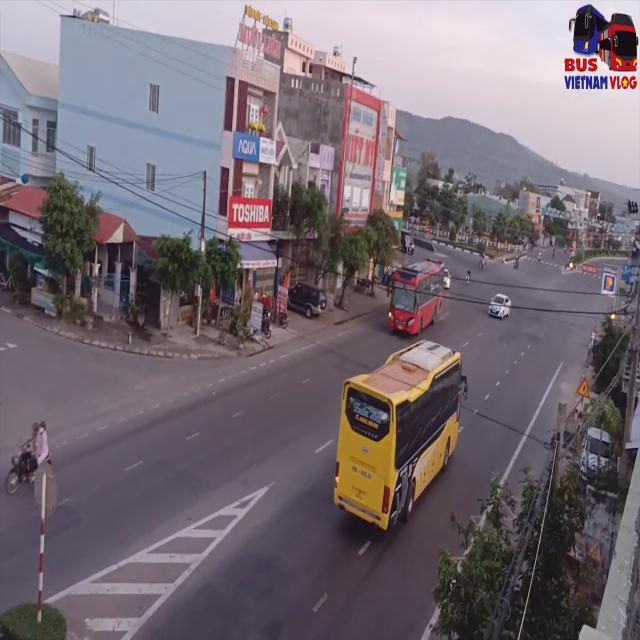bus: (337, 339, 466, 540), (389, 259, 448, 340)
car: (488, 294, 510, 325)
motorbike: (7, 420, 49, 491)
truck: (560, 2, 638, 88)
